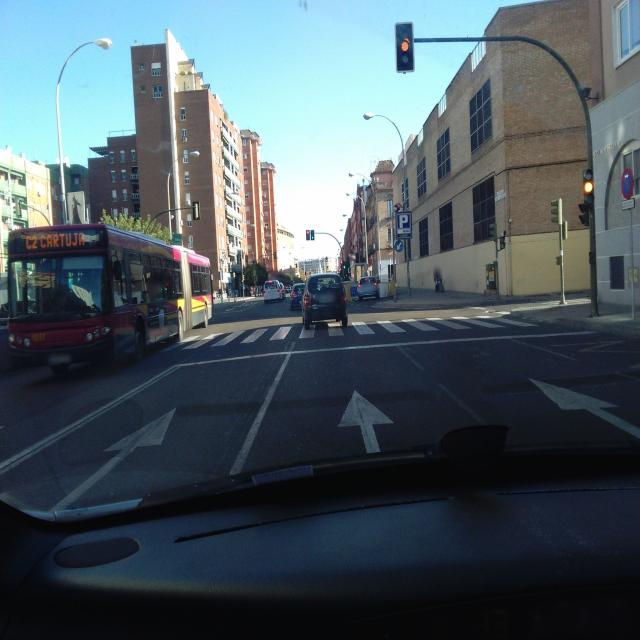car: (302, 272, 349, 329), (357, 275, 381, 301), (263, 279, 284, 304), (290, 282, 306, 311)
